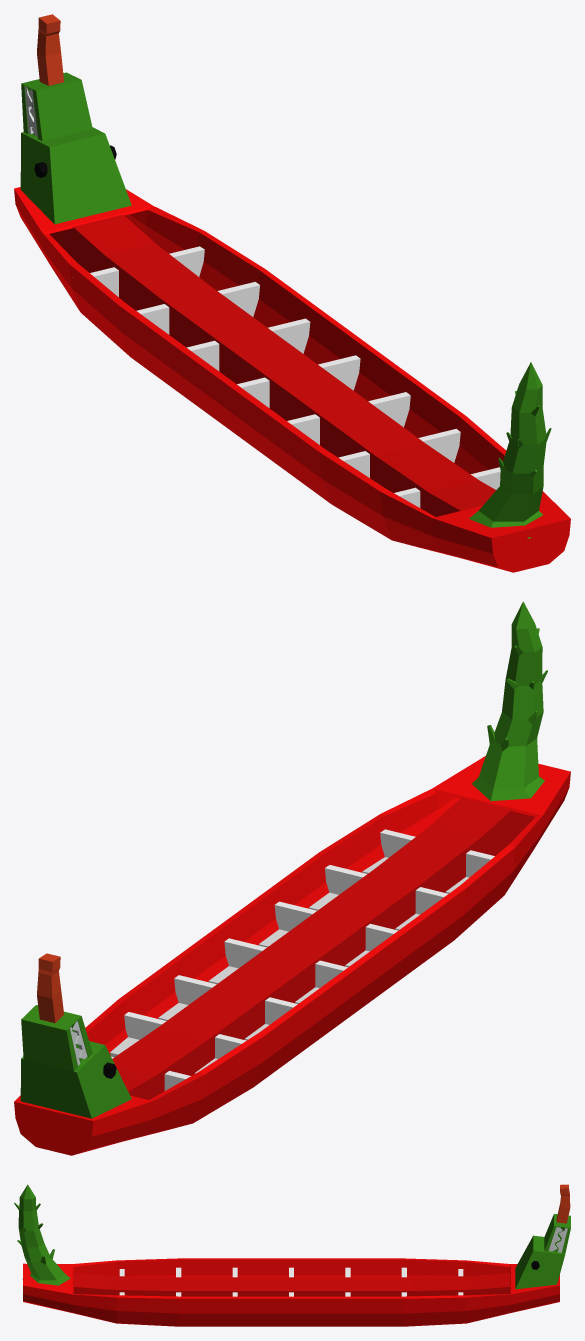
Rendered from sabani.fbx.
3 views of the same model, one above another, from view 1: azimuth 30°, elevation 25°; view 2: azimuth 150°, elevation 25°; view 3: azimuth 270°, elevation 25° (orthographic). The views are drawn at different scales.
Parts seen in each view (by area): view 1: Cube, 立方体, 立方体.015, 円柱, 立方体.016, 立方体.003, 立方体.002, 立方体.001, 立方体.005, 立方体.006, 立方体.004, 立方体.007; view 2: Cube, 立方体, 立方体.015, 円柱, 立方体.016, 立方体.006, 立方体.005, 立方体.001, 立方体.002, 立方体.003, 立方体.007; view 3: Cube, 立方体, 立方体.015, 円柱, 立方体.016.
Boxes of the visible parts, x1,y1,x2,y2 form: Cube: (14,187,570,572); 立方体: (50,214,495,516); 立方体.015: (20,72,131,224); 円柱: (469,362,551,538); 立方体.016: (37,14,63,85); 立方体.003: (136,282,259,334); 立方体.002: (186,318,310,371); 立方体.001: (237,355,360,407); 立方体.005: (287,392,410,444); 立方体.006: (338,429,460,477); 立方体.004: (90,246,204,296); 立方体.007: (394,467,500,507); Cube: (14,756,570,1155); 立方体: (112,797,535,1099); 立方体.015: (20,1005,131,1118); 円柱: (472,601,547,801); 立方体.016: (37,953,64,1023); 立方体.006: (325,865,448,914); 立方体.005: (274,901,397,951); 立方体.001: (224,938,347,987); 立方体.002: (174,975,297,1024); 立方体.003: (124,1012,246,1058); 立方体.007: (380,829,494,877); Cube: (23,1258,559,1326); 立方体: (73,1273,509,1296); 立方体.015: (515,1214,570,1289); 円柱: (14,1184,70,1285); 立方体.016: (556,1184,570,1223).
Bounding box in the file's own units: 220 × 342 × 1283.
